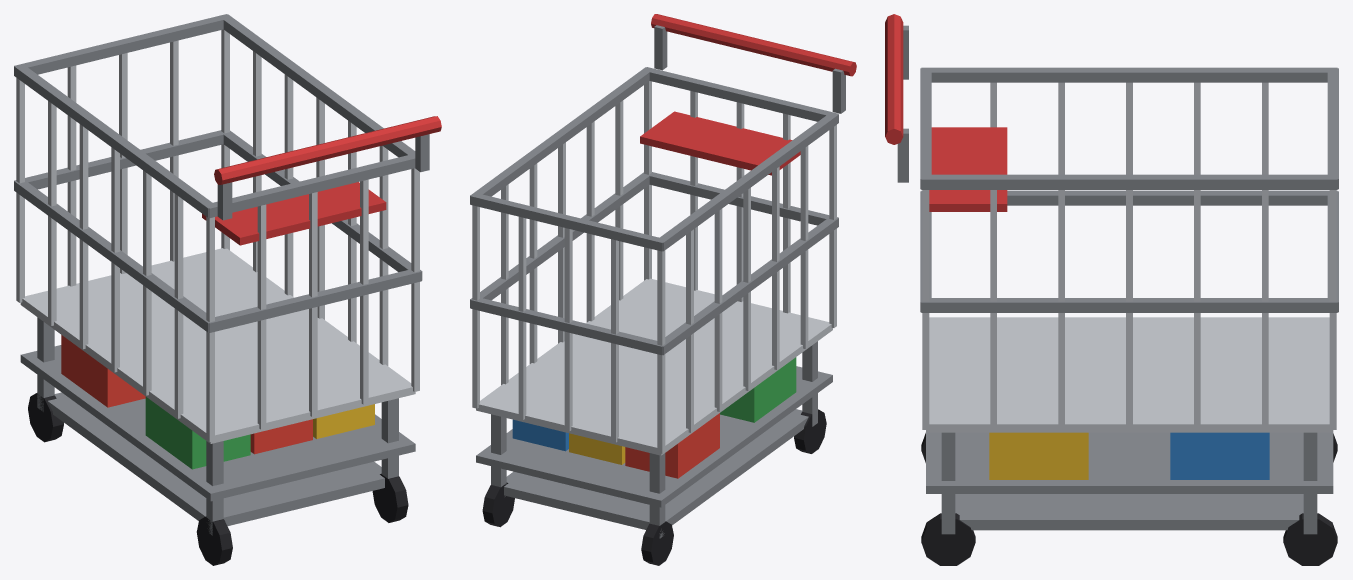
The model's file is super_double_cart.glb.
The picture shows the model from 3 angles, left to right: view 1: azimuth 30°, elevation 25°; view 2: azimuth 150°, elevation 25°; view 3: azimuth 270°, elevation 25°; orthographic projection. The views are drawn at different scales.
Parts seen in each view (by area): view 1: bar_cart_wire, floor_cart_wire, rail_cart_frame, false_floor_false_floor, base_bar_cart_frame, goods, seat_cart_red, handle_cart_red, wheel_cart_wheel, leg_cart_frame, handle_post_cart_frame; view 2: bar_cart_wire, floor_cart_wire, rail_cart_frame, false_floor_false_floor, base_bar_cart_frame, goods, seat_cart_red, handle_cart_red, wheel_cart_wheel, leg_cart_frame, handle_post_cart_frame; view 3: floor_cart_wire, rail_cart_frame, false_floor_false_floor, bar_cart_wire, base_bar_cart_frame, goods, seat_cart_red, wheel_cart_wheel, leg_cart_frame, handle_cart_red, handle_post_cart_frame.
Part boxes in pixels (bbox=[...]): bar_cart_wire: bbox=[16, 29, 419, 441]; floor_cart_wire: bbox=[20, 248, 415, 443]; rail_cart_frame: bbox=[14, 14, 422, 332]; false_floor_false_floor: bbox=[20, 345, 415, 501]; base_bar_cart_frame: bbox=[47, 392, 384, 526]; goods: bbox=[61, 335, 374, 469]; seat_cart_red: bbox=[202, 182, 386, 245]; handle_cart_red: bbox=[214, 116, 441, 184]; wheel_cart_wheel: bbox=[28, 393, 408, 565]; leg_cart_frame: bbox=[37, 317, 398, 535]; handle_post_cart_frame: bbox=[217, 134, 429, 220]; bar_cart_wire: bbox=[472, 81, 836, 453]; floor_cart_wire: bbox=[476, 278, 832, 455]; rail_cart_frame: bbox=[470, 67, 838, 355]; false_floor_false_floor: bbox=[476, 366, 832, 507]; base_bar_cart_frame: bbox=[504, 409, 808, 529]; goods: bbox=[512, 357, 796, 478]; seat_cart_red: bbox=[640, 111, 800, 175]; handle_cart_red: bbox=[651, 14, 856, 76]; wheel_cart_wheel: bbox=[482, 409, 826, 565]; leg_cart_frame: bbox=[491, 341, 817, 538]; handle_post_cart_frame: bbox=[654, 25, 845, 113]; floor_cart_wire: bbox=[926, 317, 1333, 432]; rail_cart_frame: bbox=[920, 67, 1338, 312]; false_floor_false_floor: bbox=[926, 432, 1333, 493]; bar_cart_wire: bbox=[922, 82, 1336, 429]; base_bar_cart_frame: bbox=[955, 494, 1303, 530]; goods: bbox=[989, 432, 1269, 479]; seat_cart_red: bbox=[929, 127, 1007, 211]; wheel_cart_wheel: bbox=[921, 433, 1337, 565]; leg_cart_frame: bbox=[941, 432, 1317, 534]; handle_cart_red: bbox=[885, 14, 903, 144]; handle_post_cart_frame: bbox=[897, 25, 908, 182].
Size of the model in its own units: 0.6 by 1.09 by 1.
